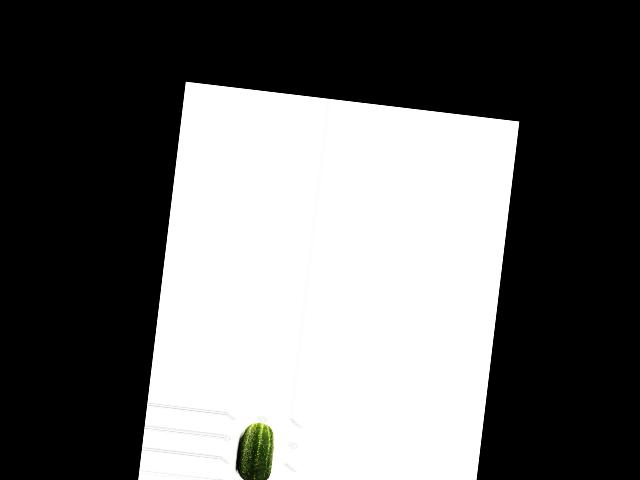cucumber: (234, 421, 276, 480)
